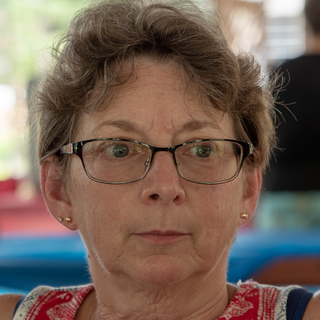eye: (100, 140, 142, 163), (181, 139, 216, 161)
